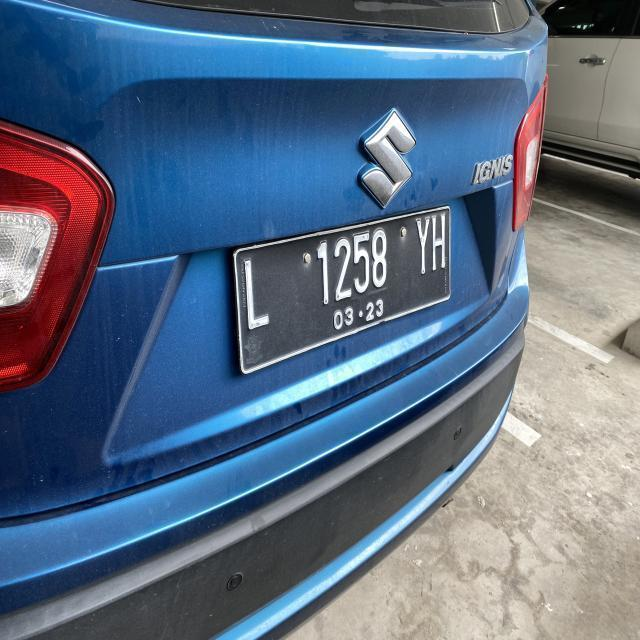1: (312, 238, 332, 308)
2: (334, 236, 352, 308)
5: (354, 228, 372, 295)
8: (372, 228, 389, 286)
H: (430, 216, 448, 274)
L: (240, 256, 274, 336)
Y: (415, 216, 429, 279)
